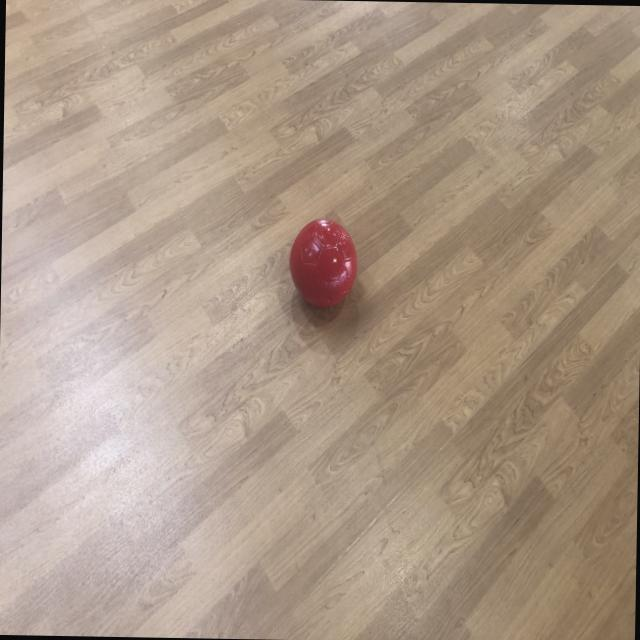red_ball: (289, 214, 357, 312)
